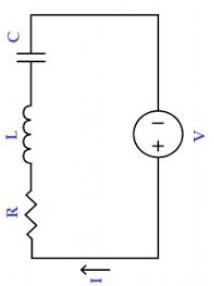Capacitor: (7, 40, 50, 71)
